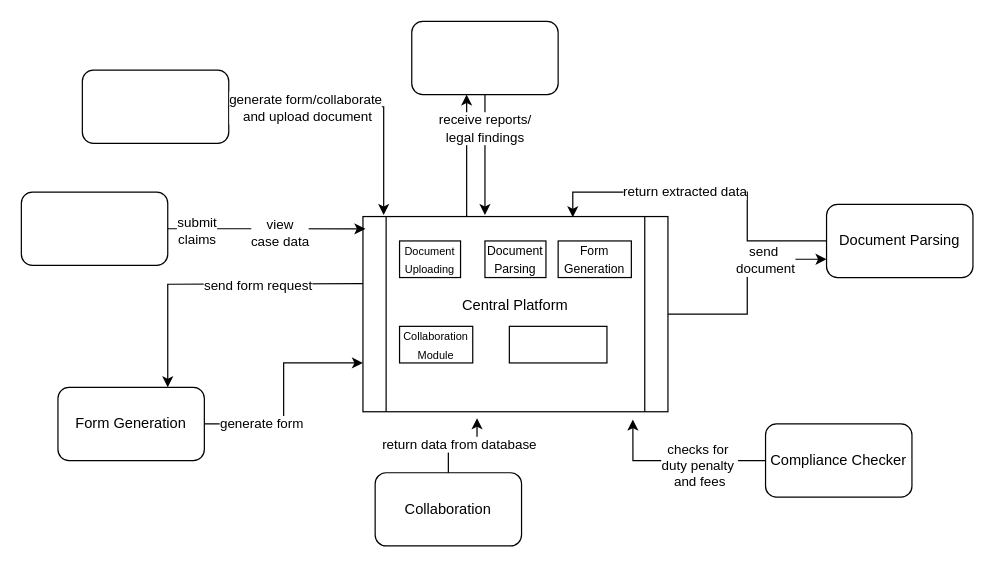
The diagram is 994 pixels wide and 567 high, and some of its shapes have lost their labels. Here are the shapes that lost their labels. From the top down, the centre of each, then its label:
pixel 484 57: Regulatory Bodies
pixel 155 106: Insolvency Professional
pixel 94 228: Creditors
pixel 557 344: Complaince Checker
